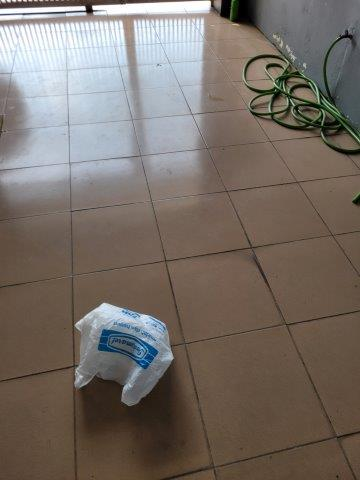plastik: (72, 304, 175, 406)
